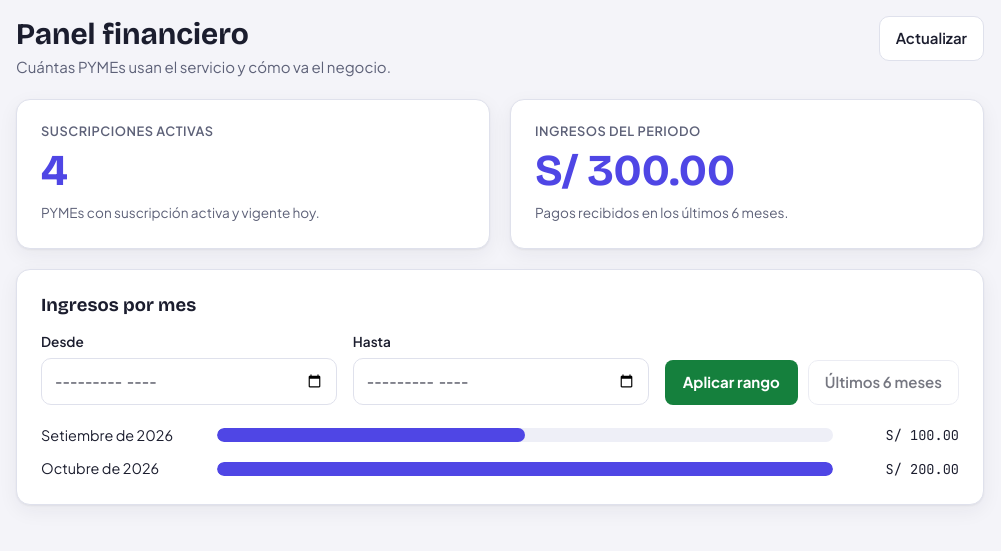
Test case: Filtro por rango de meses en el panel financiero (HU-07) › si Django rechaza el rango muestra su mensaje
This screenshot has width=1001, height=551.
Expected: the text "octubre de 2026" is shown, [41,459,159,477]
Step 1. Type "2025-01" into the field labelled "Desde" → {"x": 189, "y": 381}, box [41,358,337,405]
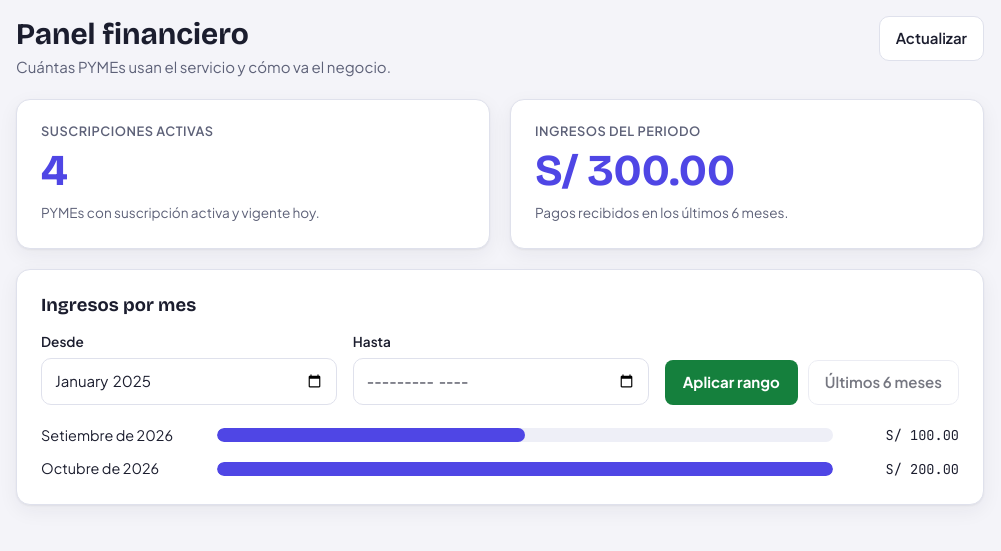
Step 2. Type "2025-03" into the field labelled "Hasta" → {"x": 501, "y": 381}, box [353,358,649,405]
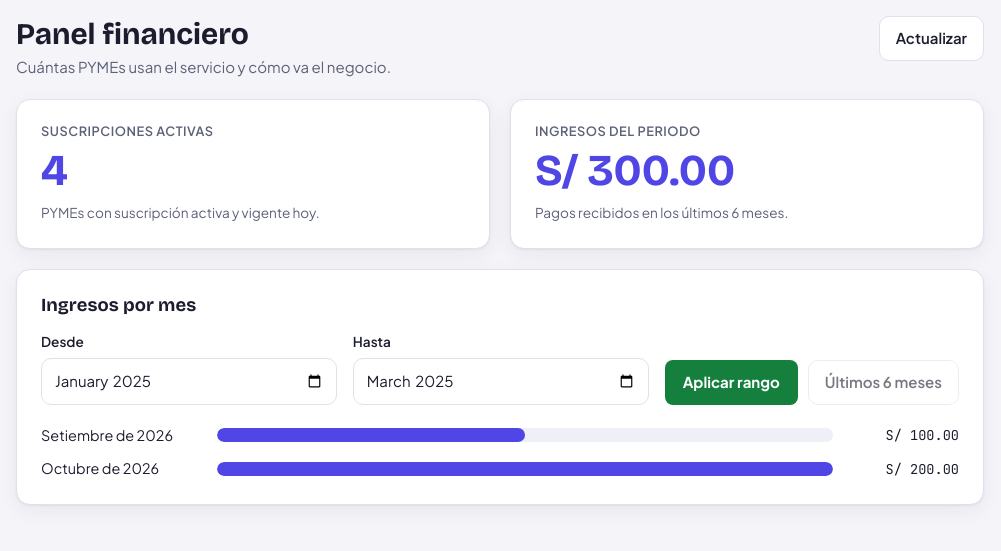
Step 3. Click the button "Aplicar rango" → {"x": 731, "y": 382}, box [665,360,798,405]
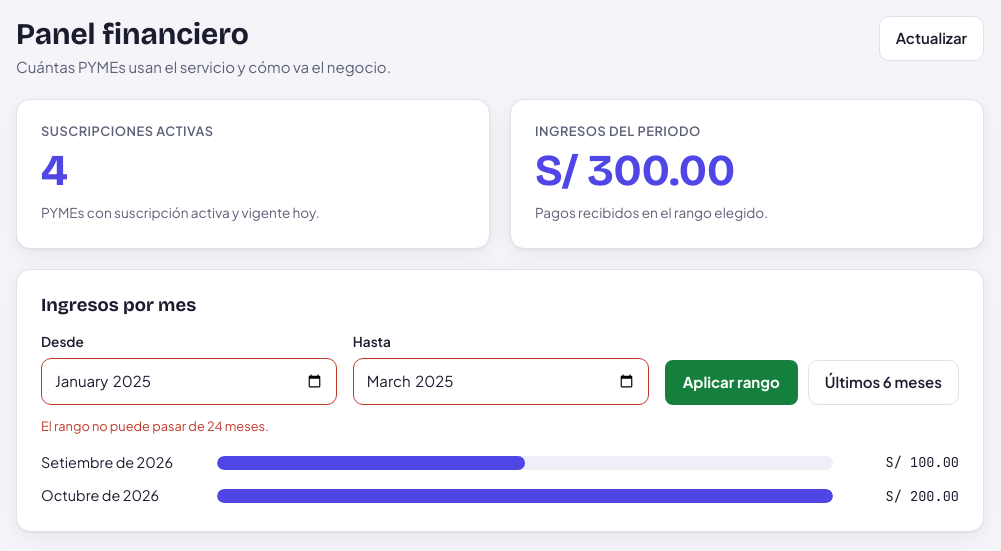
Expected: the text "El rango no puede pasar de 24 meses." is shown, [41,418,269,434]
